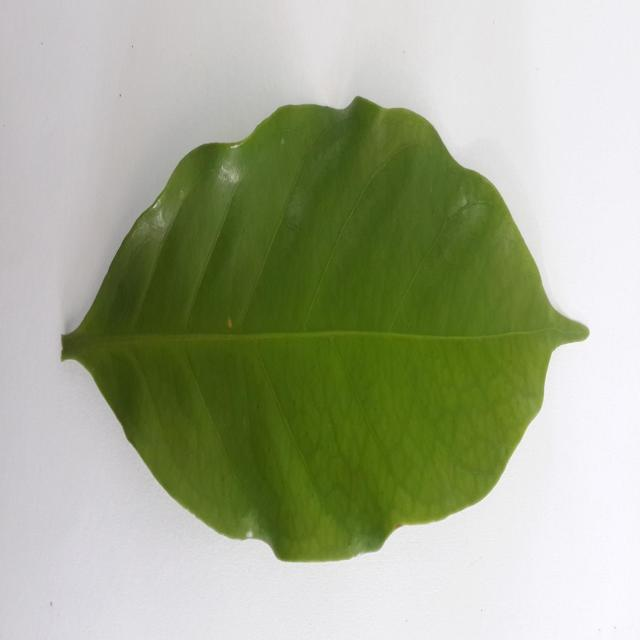Sanas: (59, 97, 589, 565)
